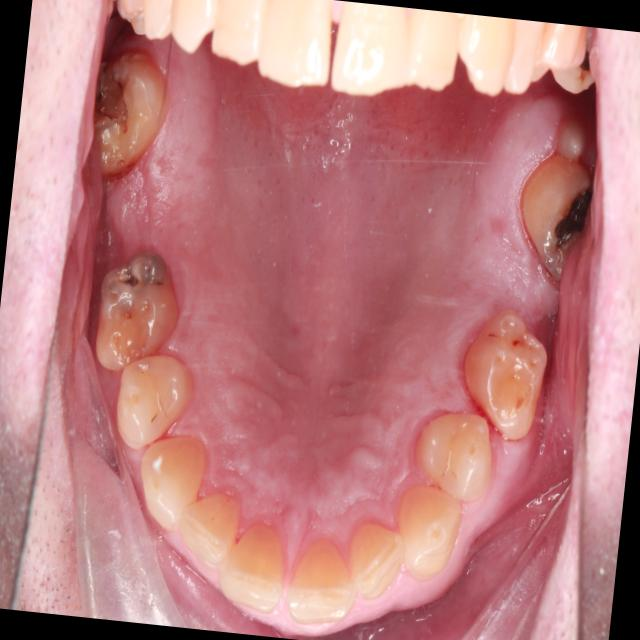tooth: (450, 295, 563, 453), (84, 242, 191, 392), (404, 397, 517, 531), (82, 39, 179, 188), (509, 138, 601, 292), (103, 339, 199, 473), (129, 422, 218, 548), (388, 476, 476, 594), (216, 509, 301, 628), (278, 532, 365, 638), (335, 509, 419, 611), (173, 483, 251, 592), (550, 108, 597, 166)
